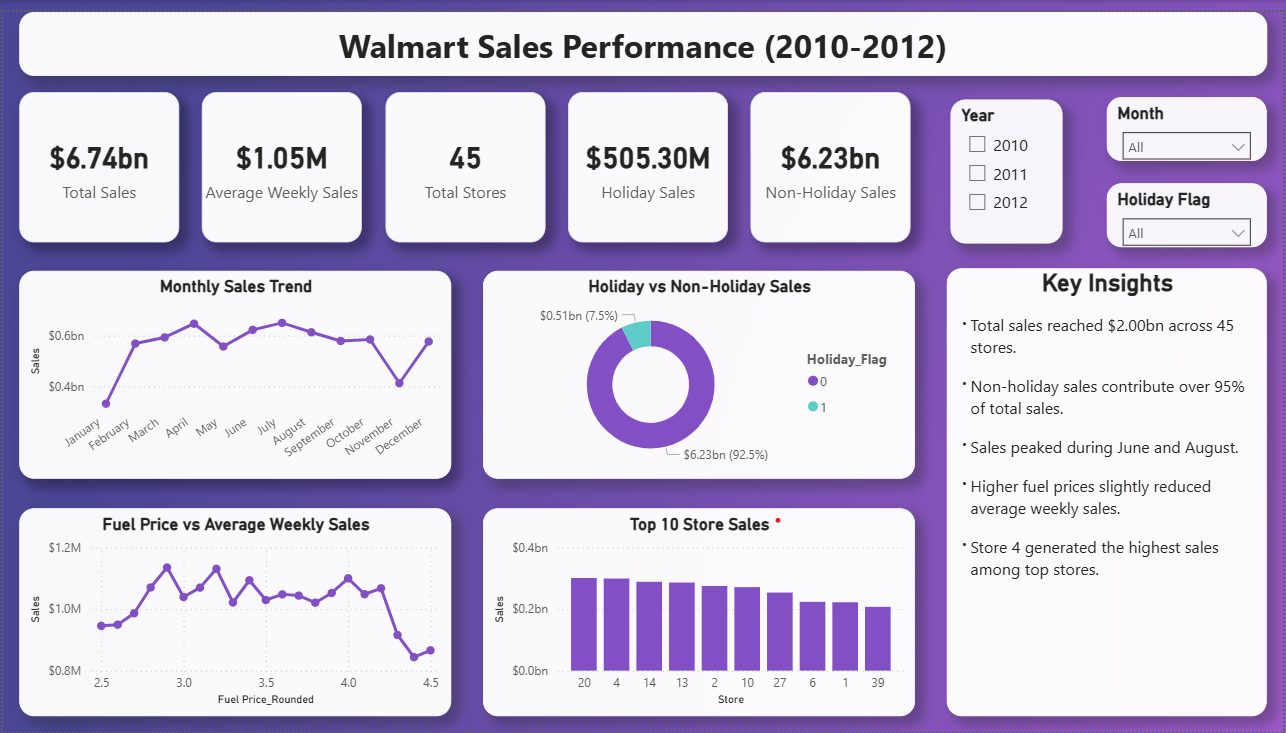

Layout of this report page (visuals, bound fields, positions):
{"tool":"powerbi","page":{"name":"Executive Dashboard","canvas":[1280,720],"ordinal":0},"visuals":[{"type":"card","fields":{"Values":["Sum(walmart_cleaned.Weekly_Sales)"]},"box":[16,80,160,150],"z":0,"group":"g1"},{"type":"clusteredColumnChart","title":"Top 10 Store Sales","fields":{"Y":["Sum(walmart_cleaned.Weekly_Sales)"],"Category":["walmart_cleaned.Store"]},"box":[480,496,432,208],"z":0},{"type":"card","fields":{"Values":["Count(walmart_cleaned.Store)"]},"box":[381.8,80,160,150],"z":1000,"group":"g1"},{"type":"lineChart","title":"Fuel Price vs Average Weekly Sales","fields":{"Category":["walmart_cleaned.FuelPrice_Rounded"],"Y":["Avg(walmart_cleaned.Weekly_Sales)"]},"box":[16,496,432,208],"z":1000},{"type":"textbox","box":[16,0,1248,64],"z":2000},{"type":"card","fields":{"Values":["Avg(walmart_cleaned.Weekly_Sales)"]},"box":[198.9,80,160,150],"z":2000,"group":"g1"},{"type":"group","id":"g1","title":"Group 1","box":[16,80,896,144],"z":3000},{"type":"card","fields":{"Values":["Sum(walmart_cleaned.Weekly_Sales)"]},"box":[564.7,80,160,150],"z":3000,"group":"g1"},{"type":"card","fields":{"Values":["Sum(walmart_cleaned.Weekly_Sales)"]},"box":[747.6,80,160,150],"z":4000,"group":"g1"},{"type":"group","id":"g2","title":"Group 2","box":[16,258.8,896,208],"z":4000},{"type":"lineChart","title":"Monthly Sales Trend","fields":{"Y":["Sum(walmart_cleaned.Weekly_Sales)"],"Category":["walmart_cleaned.Date.Variation.Date Hierarchy.Month"]},"box":[16,258.8,432,208],"z":5000,"group":"g2"},{"type":"textbox","title":"Key Insights","box":[944,256,320,448],"z":6000},{"type":"donutChart","title":"Holiday vs Non-Holiday Sales","fields":{"Category":["walmart_cleaned.Holiday_Flag"],"Y":["Sum(walmart_cleaned.Weekly_Sales)"]},"box":[480,258.8,432,208],"z":7000,"group":"g2"},{"type":"slicer","title":"Year","fields":{"Values":["walmart_cleaned.year"]},"box":[947.5,88,112,144],"z":9000},{"type":"slicer","title":"Month","fields":{"Values":["walmart_cleaned.Date.Variation.Date Hierarchy.Month"]},"box":[1104,85.3,160,64],"z":10000},{"type":"slicer","title":"Holiday Flag","fields":{"Values":["walmart_cleaned.Holiday_Flag"]},"box":[1104,170.7,160,64],"z":11000}]}

Visuals, with their boxes in screenshot pixels (x1, y1, x2, y2), scaled from the page's 1280x720 canvas onto the 1286x733 screenshot:
card - Sum(walmart_cleaned.Weekly_Sales): region(16, 81, 177, 234)
"Top 10 Store Sales" clusteredColumnChart: region(482, 505, 916, 717)
card - Count(walmart_cleaned.Store): region(384, 81, 544, 234)
"Fuel Price vs Average Weekly Sales" lineChart: region(16, 505, 450, 717)
textbox: region(16, 0, 1270, 65)
card - Avg(walmart_cleaned.Weekly_Sales): region(200, 81, 361, 234)
"Group 1" group: region(16, 81, 916, 228)
card - Sum(walmart_cleaned.Weekly_Sales): region(567, 81, 728, 234)
card - Sum(walmart_cleaned.Weekly_Sales): region(751, 81, 912, 234)
"Group 2" group: region(16, 263, 916, 475)
"Monthly Sales Trend" lineChart: region(16, 263, 450, 475)
"Key Insights" textbox: region(948, 261, 1270, 717)
"Holiday vs Non-Holiday Sales" donutChart: region(482, 263, 916, 475)
"Year" slicer: region(952, 90, 1064, 236)
"Month" slicer: region(1109, 87, 1270, 152)
"Holiday Flag" slicer: region(1109, 174, 1270, 239)
